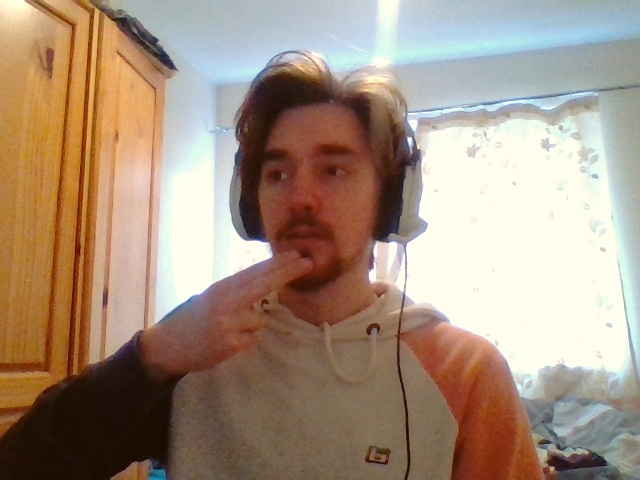afternoon: (175, 250, 313, 356)
